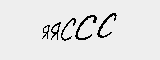С: (74, 12, 97, 44), (97, 9, 118, 39), (60, 15, 78, 44)
Я: (48, 20, 63, 43), (39, 23, 50, 43)
